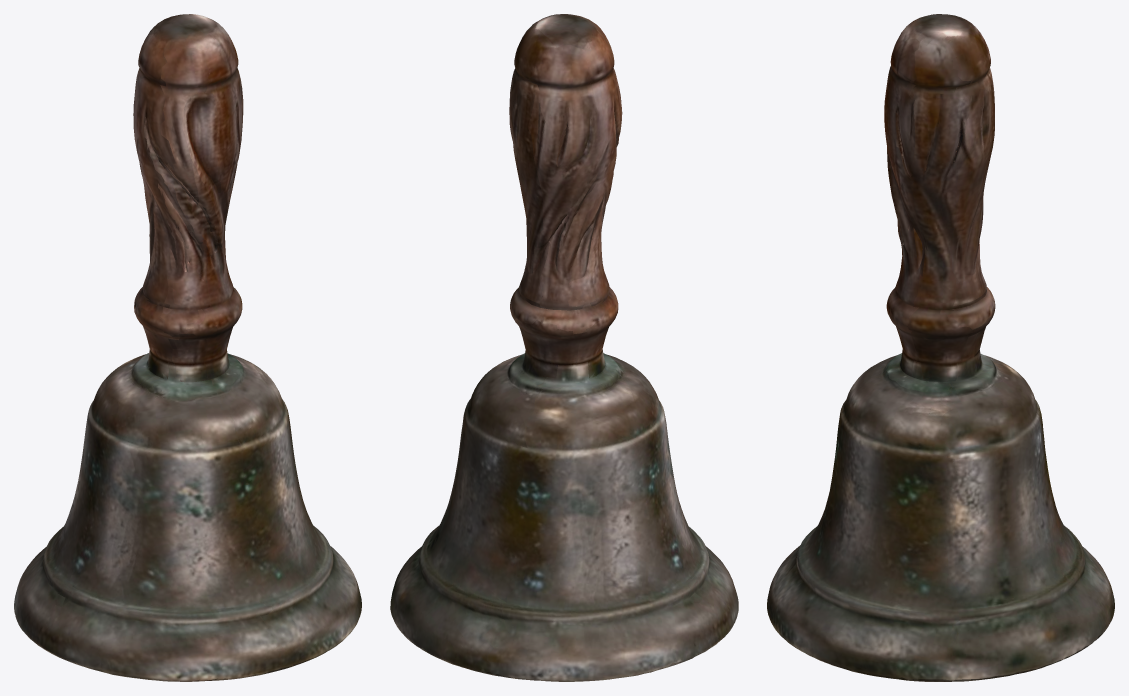
The model's file is relic_bell.glb.
The picture shows the model from 3 angles, left to right: view 1: azimuth 30°, elevation 25°; view 2: azimuth 150°, elevation 25°; view 3: azimuth 270°, elevation 25°; orthographic projection.
Parts seen in each view (by area): view 1: geometry_0; view 2: geometry_0; view 3: geometry_0.
Part boxes in pixels (box(x1,y1,x2,y2)): geometry_0: box(14, 14, 361, 681); geometry_0: box(390, 14, 738, 681); geometry_0: box(767, 14, 1114, 681).
Bounding box in the file's own units: 0.1072 × 0.21 × 0.1069.
1 material, 1 textured.
